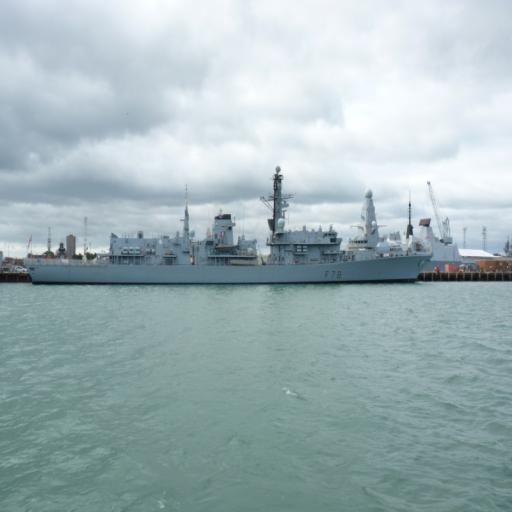Fragata: (21, 194, 434, 290)
